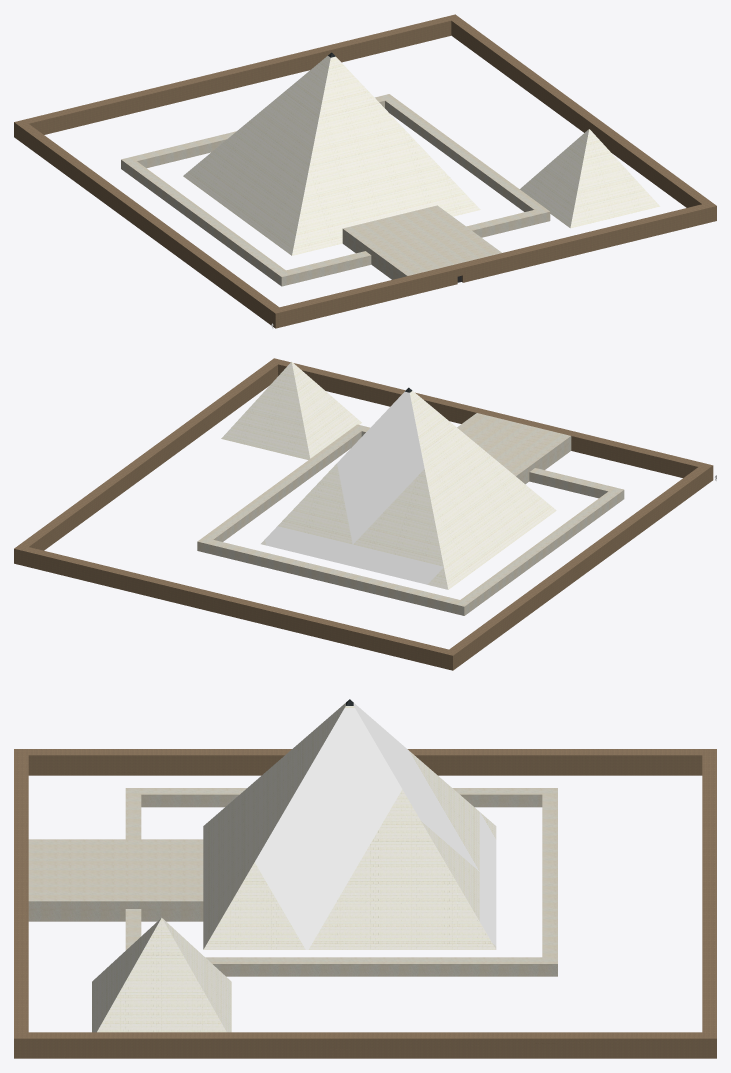
File: Khendjer_Pyramid.obj
3 views of the same model, one above another, from view 1: azimuth 30°, elevation 25°; view 2: azimuth 150°, elevation 25°; view 3: azimuth 270°, elevation 25° (orthographic). The views are drawn at different scales.
Visible parts, largest first — view 1: Mesh1 Model, Mesh2 Model; view 2: Mesh1 Model, Mesh2 Model; view 3: Mesh1 Model, Mesh2 Model.
Part boxes in pixels (bbox=[...]): Mesh1 Model: bbox=[14, 14, 716, 328]; Mesh2 Model: bbox=[520, 129, 659, 228]; Mesh1 Model: bbox=[14, 358, 713, 670]; Mesh2 Model: bbox=[221, 361, 361, 459]; Mesh1 Model: bbox=[14, 699, 716, 1058]; Mesh2 Model: bbox=[92, 918, 231, 1032].
Bounding box in the file's own units: 124 × 37.35 × 126.
9 materials, 7 textured.
